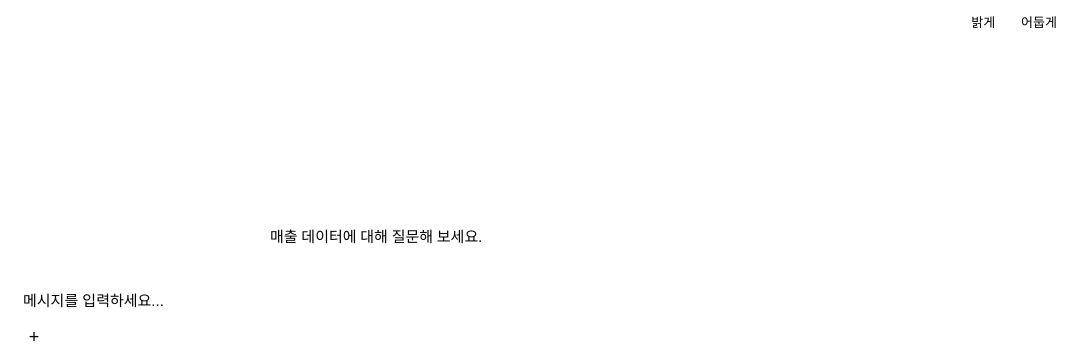
Test: Chat - PDF 다운로드 버튼 › 네트워크 오류에도 크래시하지 않고 에러 메시지를 표시한다
Type "질문" into the field with placeholder "메시지를 입력하세요...".
click(379, 300); type("질문")  # box [19,288,739,313]
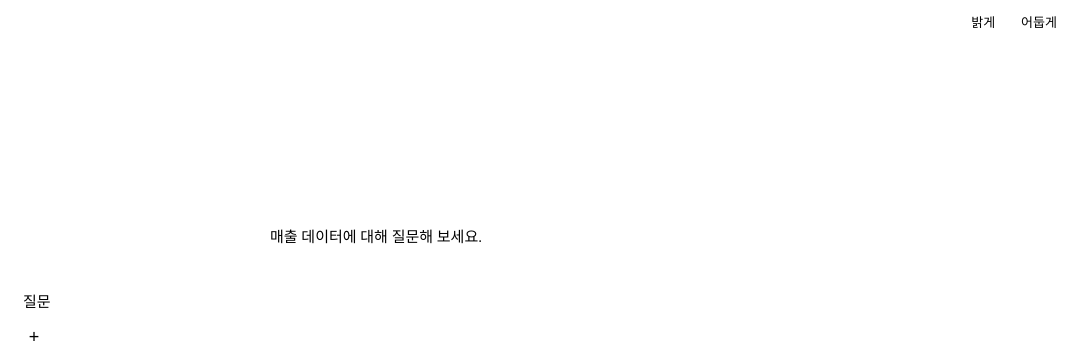
Press Enter in the field with placeholder "메시지를 입력하세요...", box [19,288,739,313]
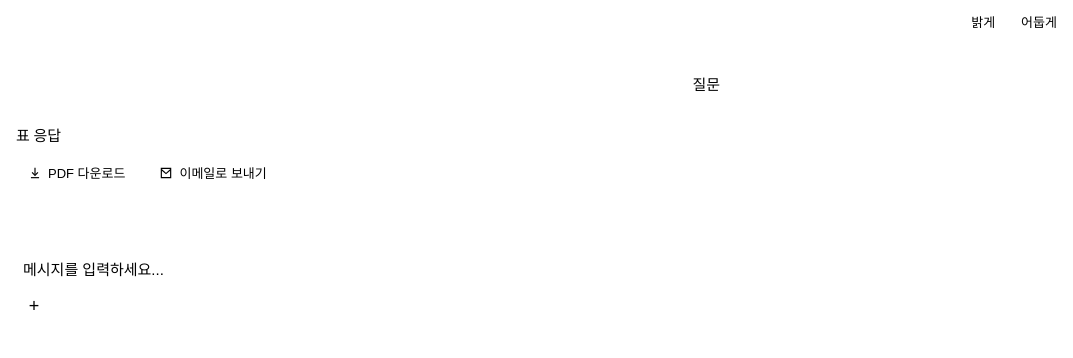
Click the button "PDF 다운로드".
click(77, 172)  # box [16,158,138,187]
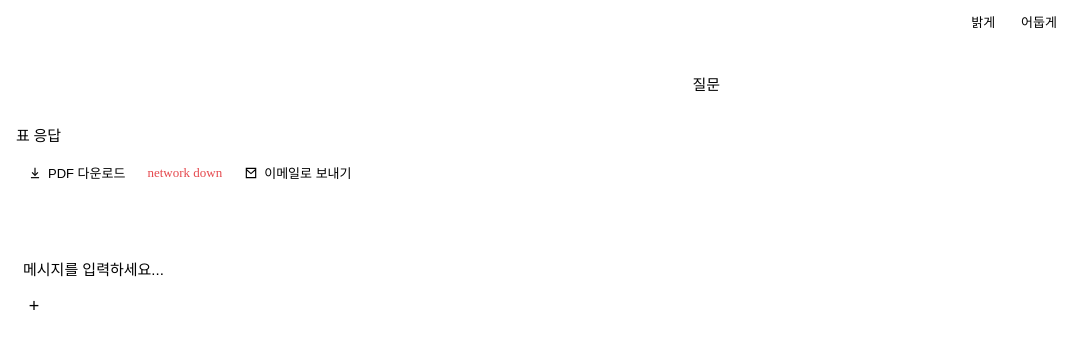
Result: the text "network down" is shown at [148,164,222,180]
